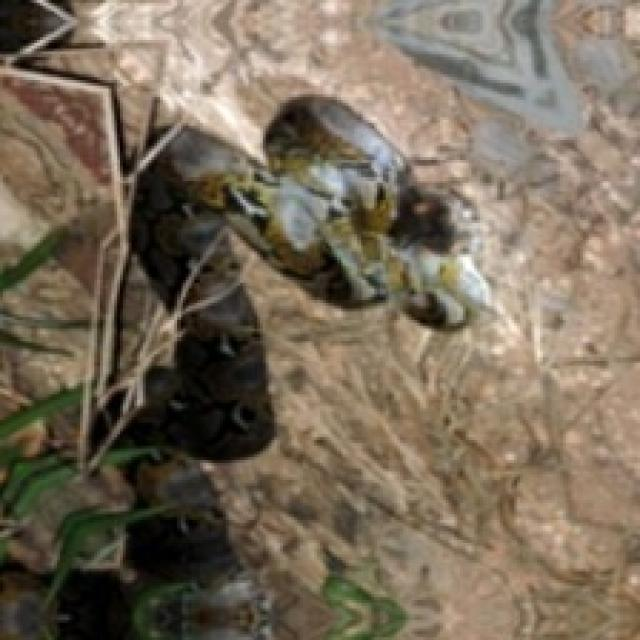reticulated python: (131, 94, 489, 457)
